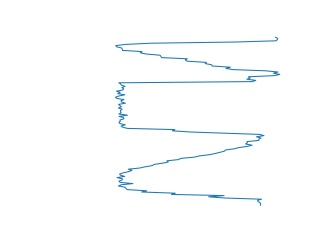distributaryChannelFill: (112, 72, 266, 142)
mouthBar: (111, 32, 283, 77)
underwaterDistributaryChannel: (113, 137, 265, 208)
